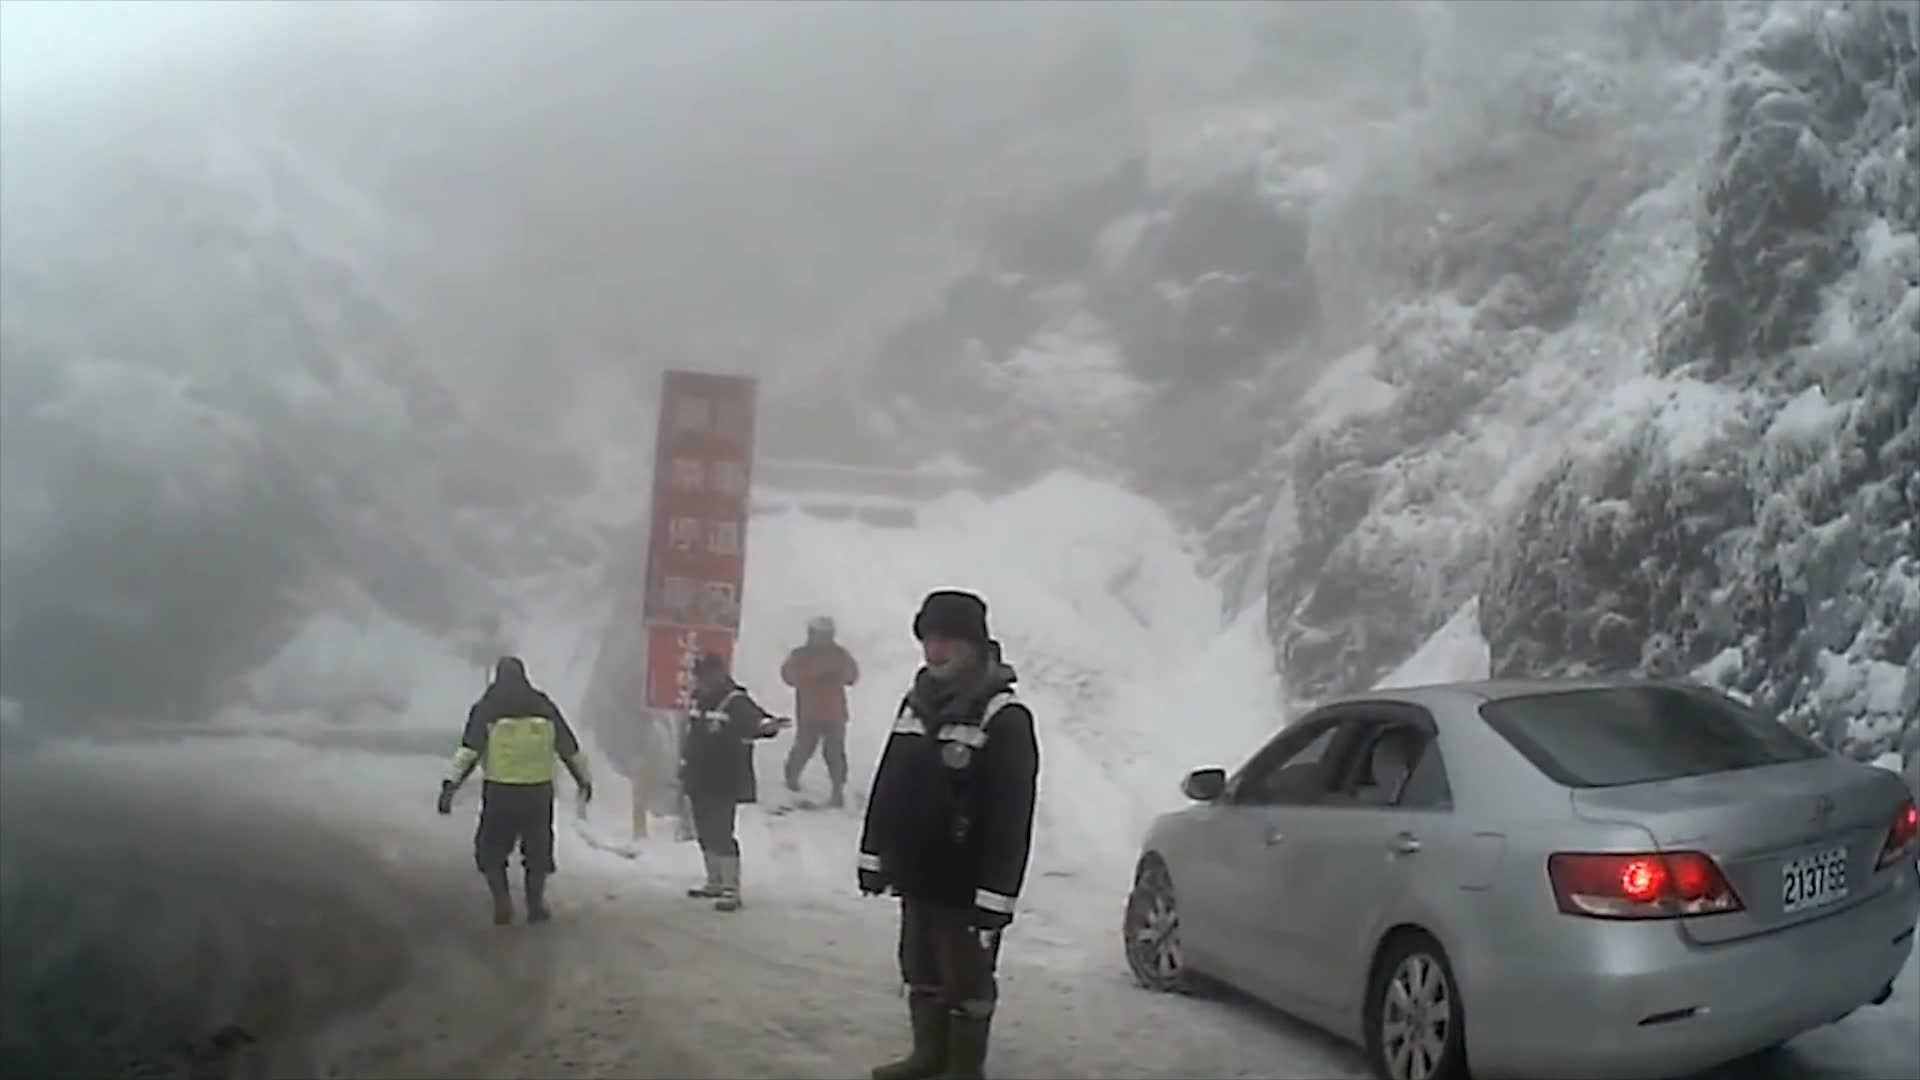pedestrian: (847, 581, 1032, 1080), (453, 665, 591, 933), (682, 650, 791, 910), (788, 616, 860, 812)
vehicle: (1119, 677, 1920, 1080)
